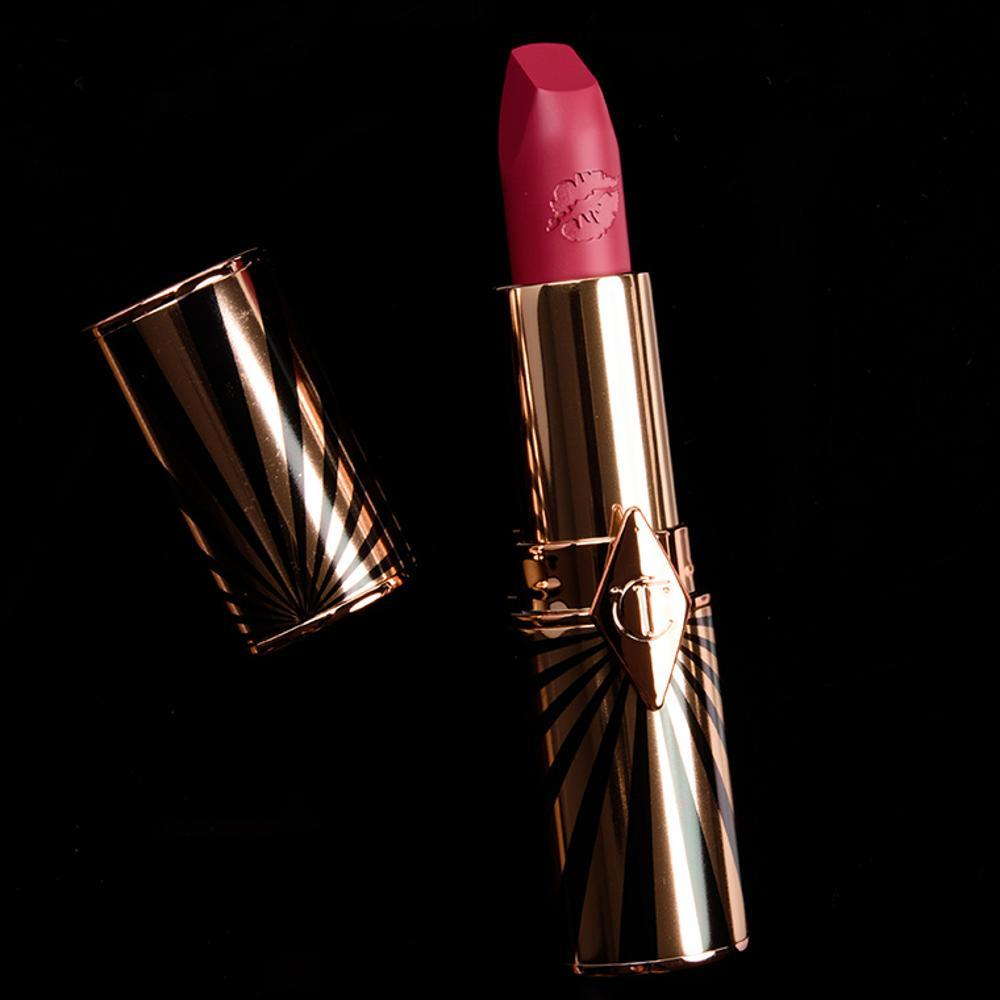lipstick: (420, 24, 807, 973)
